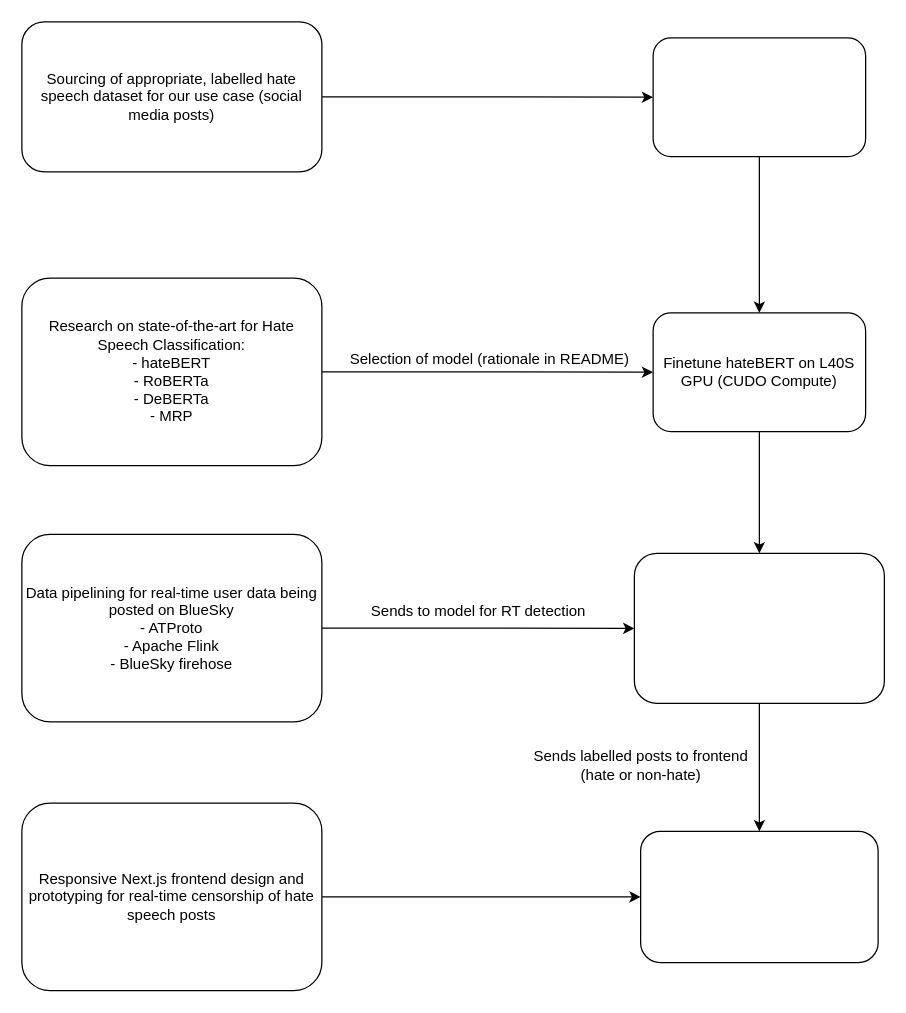
Image size: 906x1013. Some labels were removed from this diagram. The box of each missing label's shape, as (x1, y1, x2, y2) in pixels:
ClearSky: An app incorporating real-time masking of hate posts: (639, 830, 878, 962)
Final trained hateBERT model with >90% accuracy and f-score: (633, 552, 884, 703)
Processing and balancing of dataset: (652, 37, 866, 157)
